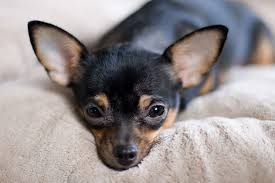chihuahua: (22, 10, 242, 183)
